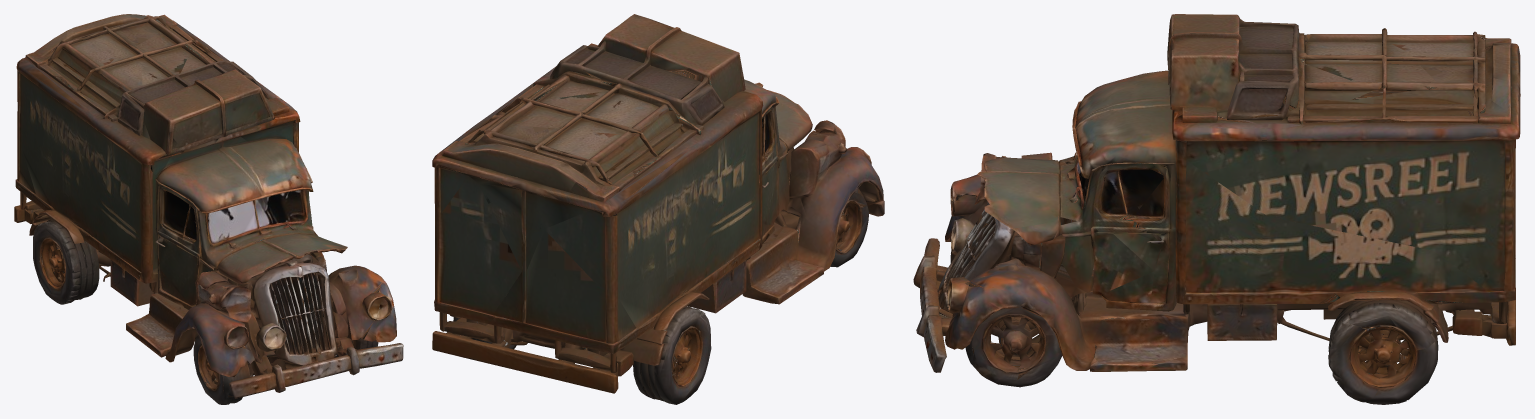
The model's file is newsreel-truck.glb.
The picture shows the model from 3 angles, left to right: view 1: azimuth 30°, elevation 25°; view 2: azimuth 150°, elevation 25°; view 3: azimuth 270°, elevation 25°; orthographic projection. The views are drawn at different scales.
Visible parts, largest first — view 1: SM_NewsreelTruck; view 2: SM_NewsreelTruck; view 3: SM_NewsreelTruck.
Boxes of the visible parts, x1,y1,x2,y2 form: SM_NewsreelTruck: (14, 14, 403, 404); SM_NewsreelTruck: (432, 14, 884, 404); SM_NewsreelTruck: (913, 14, 1520, 404).
Size of the model in its own units: 2.46 by 2.99 by 5.2.
Materials: 1 (1 with a texture image).
